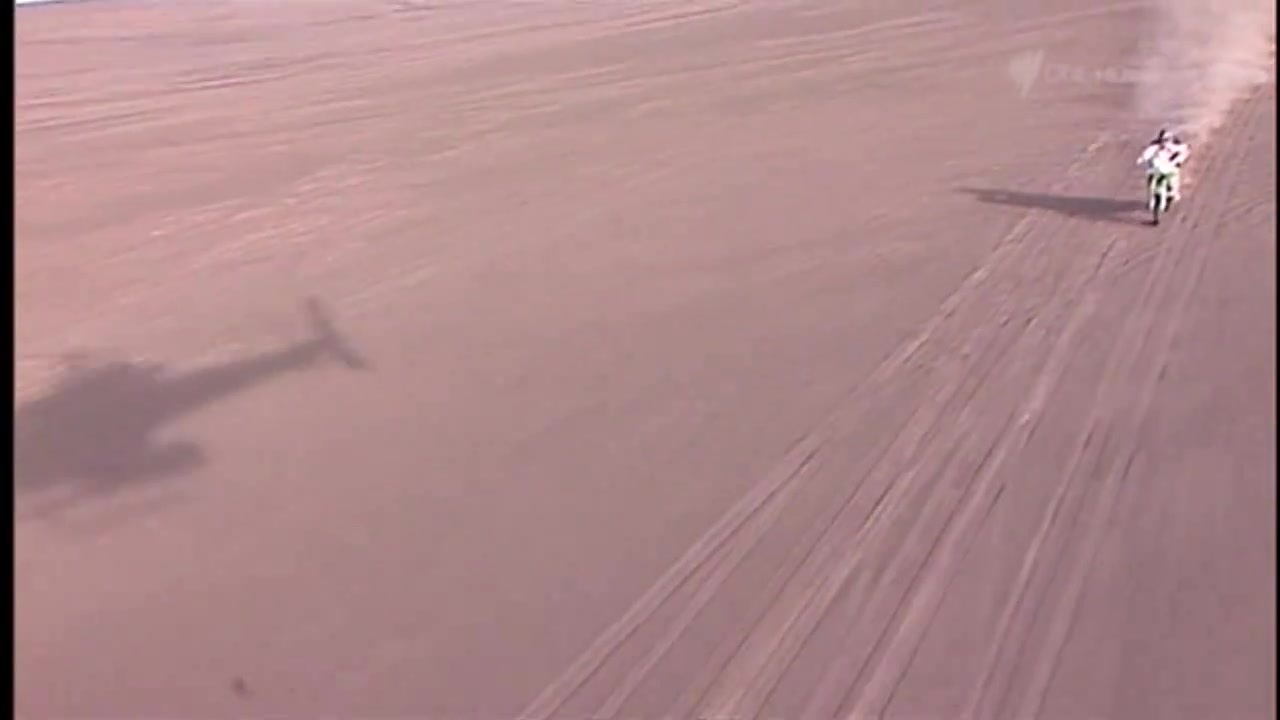motorbike: (1143, 164, 1191, 227)
